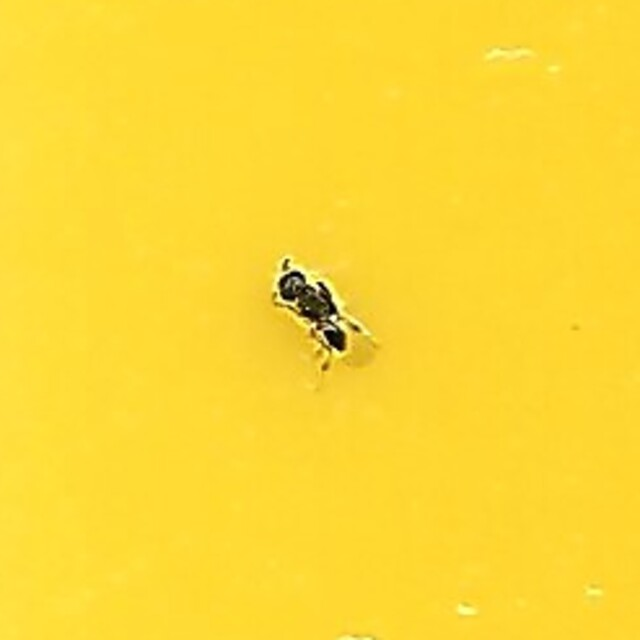Hymenoptera: (259, 254, 381, 386)
